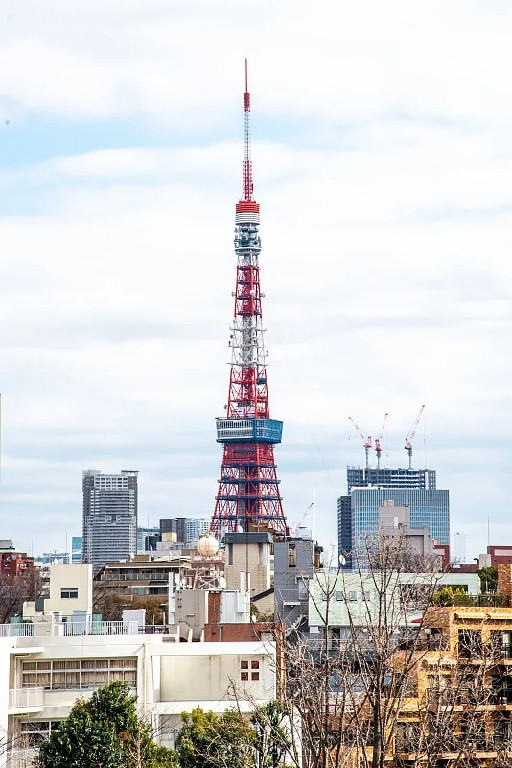Tokyo: (206, 55, 290, 539)
